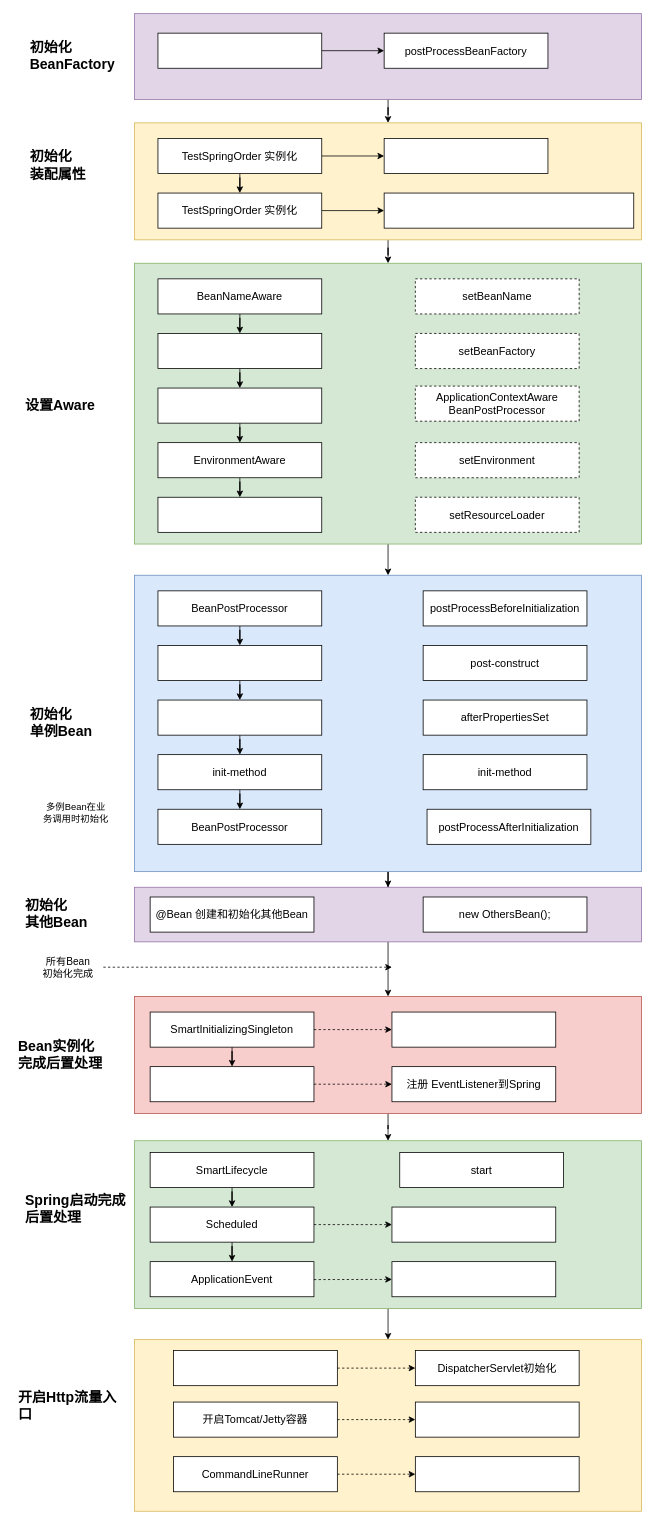
The diagram is 655 pixels wide and 1525 high, and some of its shapes have lost their labels. The shapes that lost their labels are listed below. From the top down, each one's centre as x and y in pixels, then its label:
At point 239,50: "BeanFactoryPostProcessor".
At point 465,156: "new TestSpringOrder()".
At point 508,210: "AutowiredAnnotationBeanPostProcessor".
At point 239,351: "BeanFactoryAware".
At point 239,405: "ApplicationContextAware".
At point 239,514: "ResourceLoaderAware".
At point 239,663: "PostConstruct".
At point 239,717: "InitializingBean".
At point 473,1029: "afterSingletonsInstantiated".
At point 231,1084: "EventListener".
At point 473,1224: "定时任务开始调度".
At point 473,1279: "发布ContextRefreshedEvent".
At point 255,1368: "初始化Spring MVC".
At point 497,1419: "容器初始化: 监听端口".
At point 497,1474: "run".
